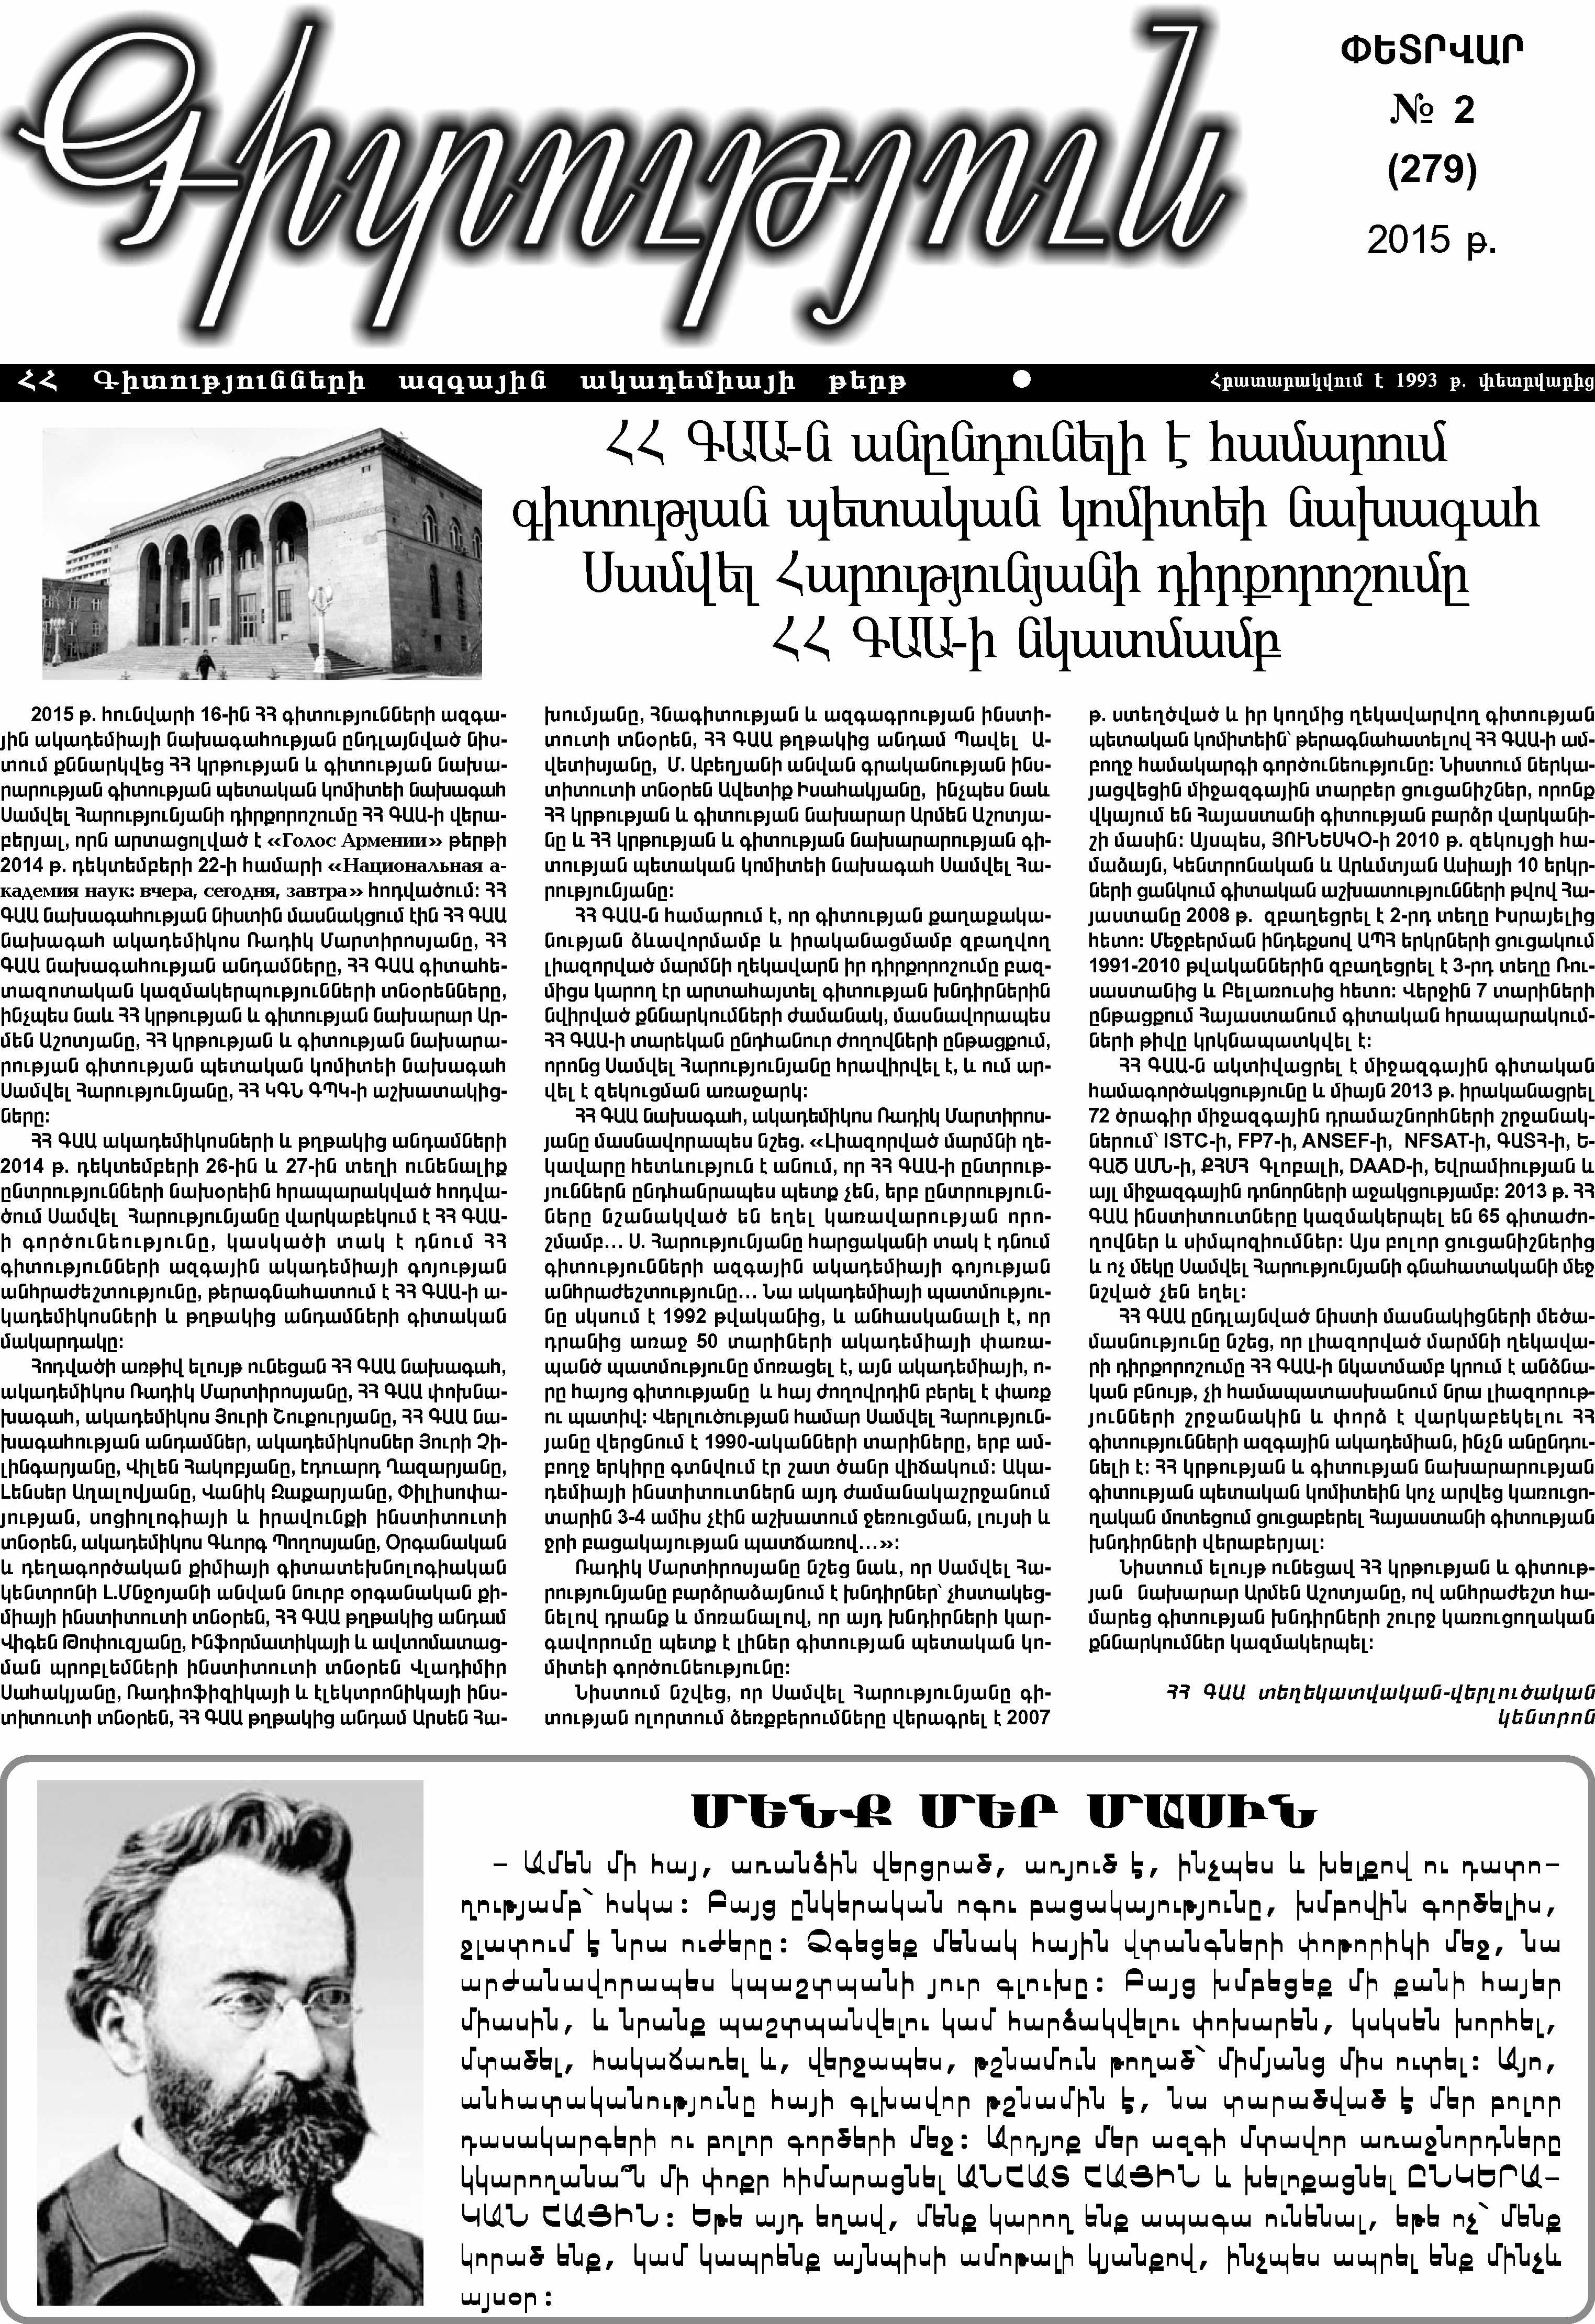person: (21, 1770, 443, 2318)
